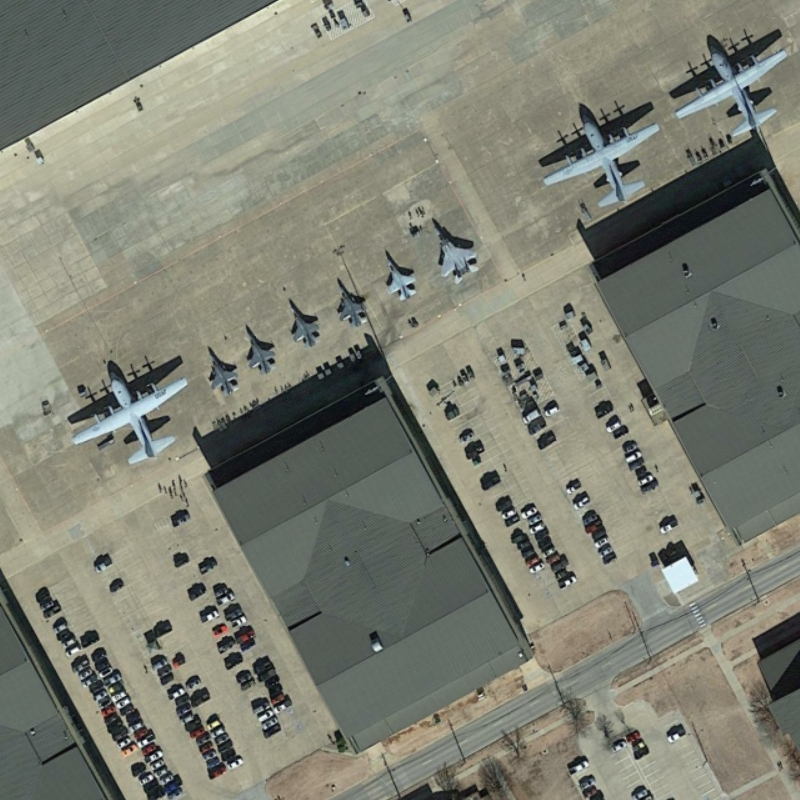A13: (430, 221, 483, 287)
A2: (69, 356, 190, 468), (671, 40, 790, 143), (540, 112, 662, 209)
A5: (380, 250, 420, 303), (285, 296, 325, 349), (204, 345, 242, 397), (335, 275, 371, 329), (243, 322, 278, 374)
